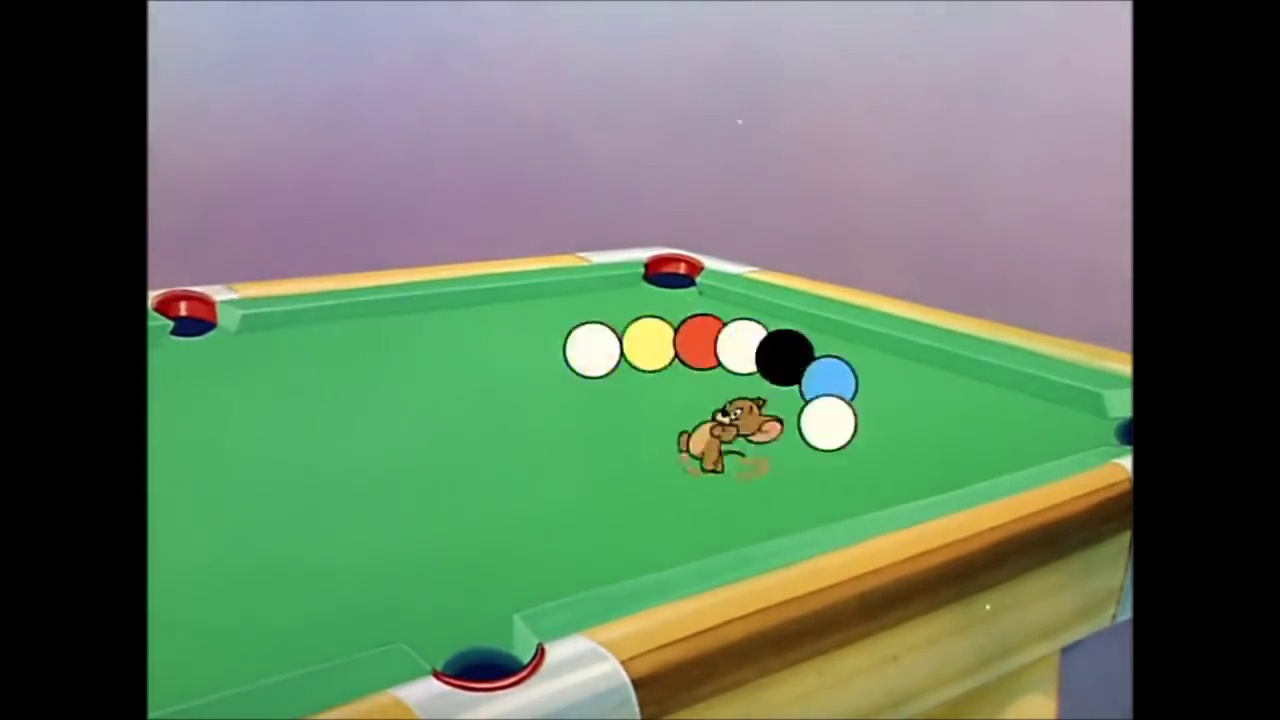sad: (713, 396, 757, 431)
